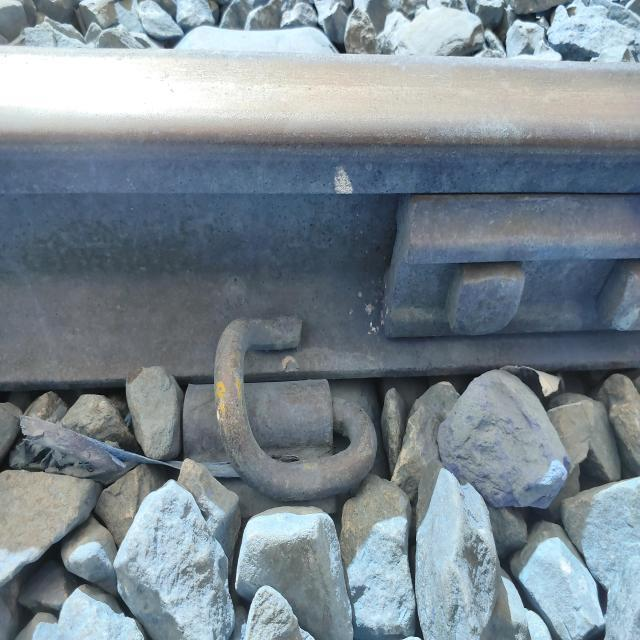Good Fasteners: (167, 297, 410, 523)
